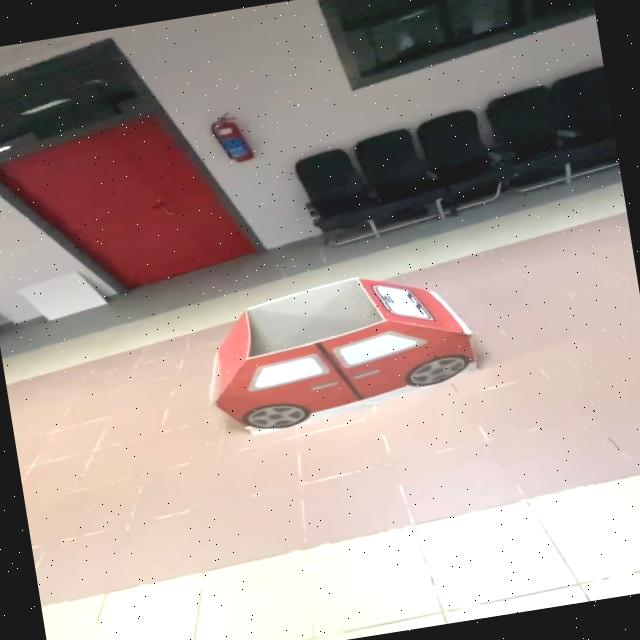red_car: (176, 244, 528, 456)
